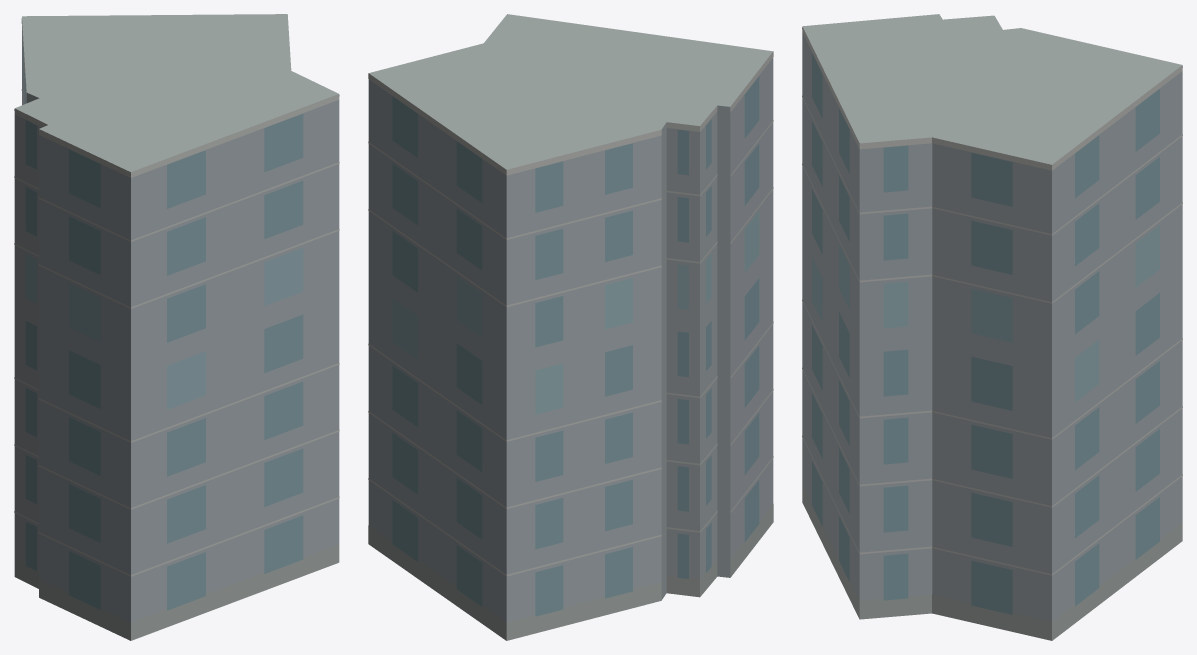
File: survey-upis-32815461.glb
3 renders of one model, left to right at view 1: azimuth 30°, elevation 25°; view 2: azimuth 150°, elevation 25°; view 3: azimuth 270°, elevation 25°, orthographic.
Parts seen in each view (by area): view 1: survey-upis-32815461.tmp; view 2: survey-upis-32815461.tmp; view 3: survey-upis-32815461.tmp.
Part boxes in pixels (x1,y1,x2,y2): survey-upis-32815461.tmp: (14, 14, 339, 640); survey-upis-32815461.tmp: (368, 14, 773, 640); survey-upis-32815461.tmp: (802, 14, 1182, 640).
Bounding box in the file's own units: 13.45 × 19.75 × 14.33.
